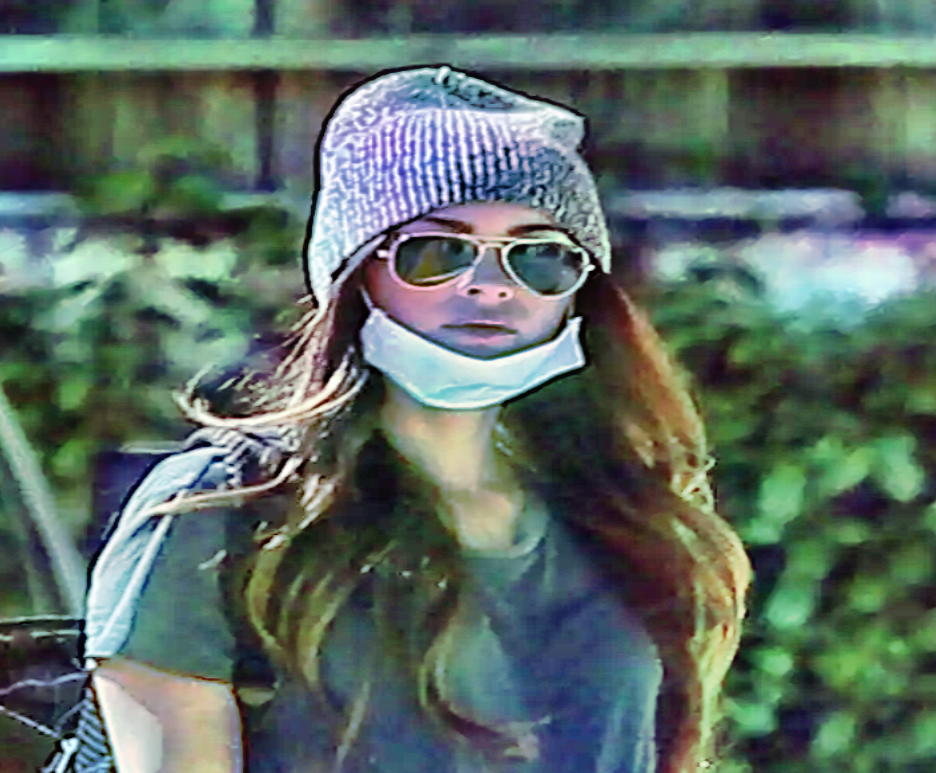mask_weared_incorrect: (308, 70, 609, 416)
